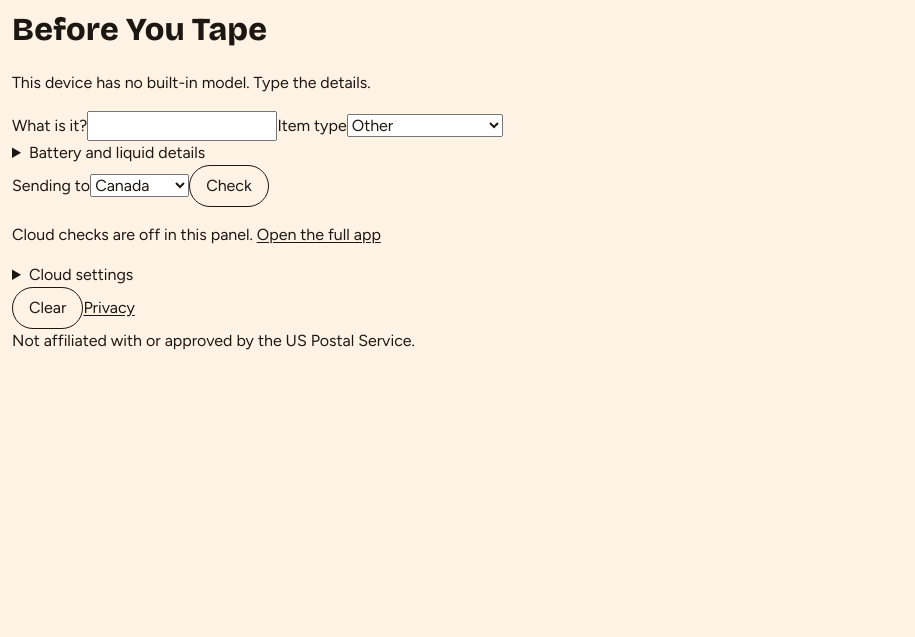
Test: drops a cloud reply that arrives after consent is withdrawn
Click the heading "Cloud settings" at (81, 274), box [29,265,133,284]
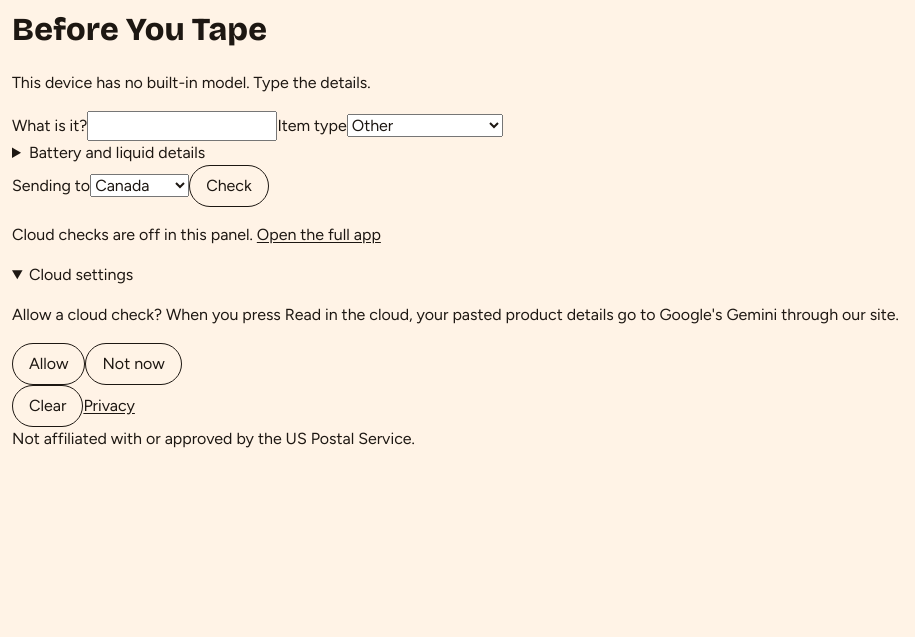
Click the button "Allow" at (49, 364), box [12,343,86,385]
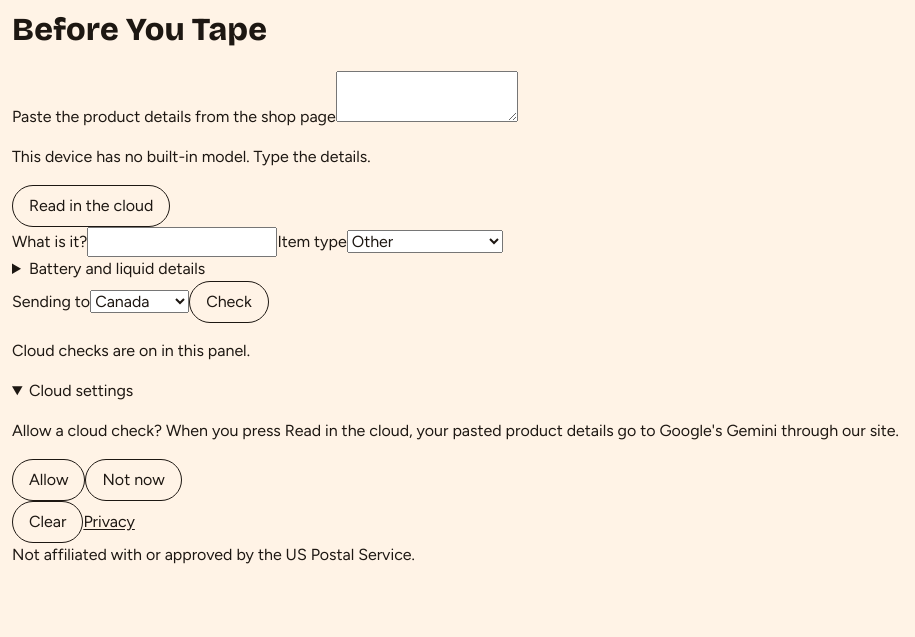
Type "Cotton scarf" into the text box labelled "Paste the product details from the shop page" at (427, 96), box [336,71,518,122]
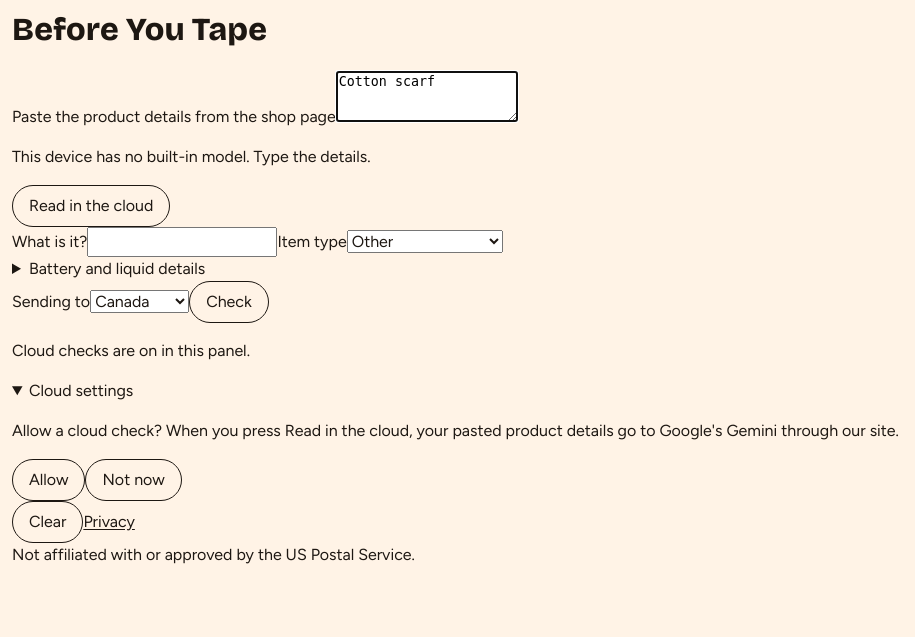
Click the button "Read in the cloud" at (91, 206), box [12,185,170,227]
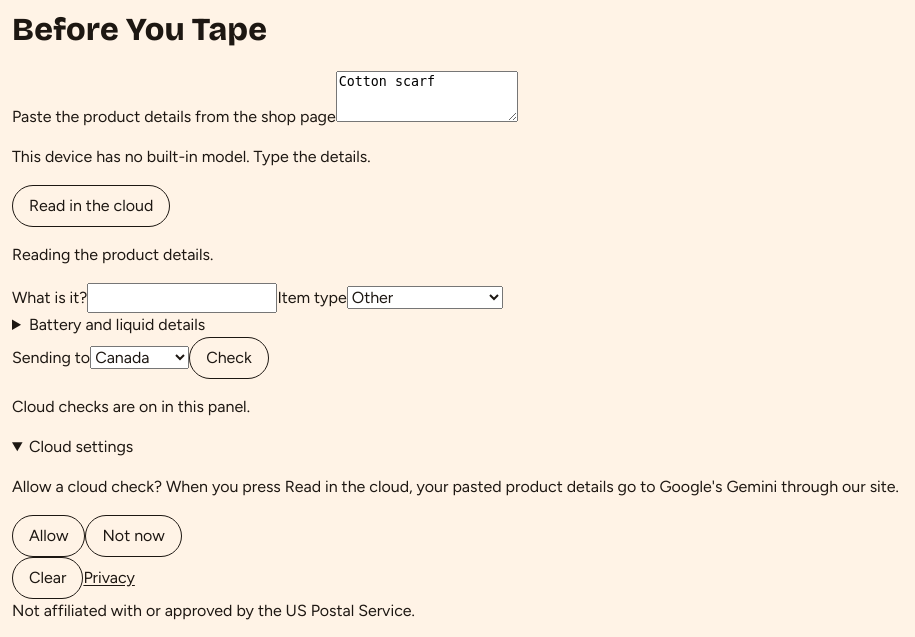
Click the button "Not now" at (134, 536), box [86,515,182,557]
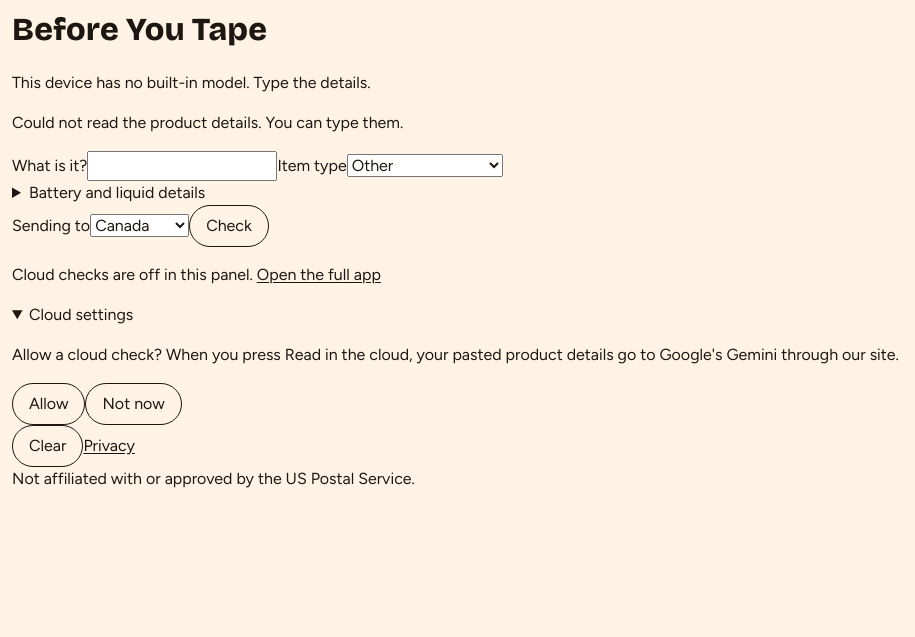
Expected: the field labelled "What is it?" is empty, [87,151,277,181]
Now the text "Reading the product details." is gone
Now the text "Cloud checks are off in this panel." is shown, box [12,265,253,284]
